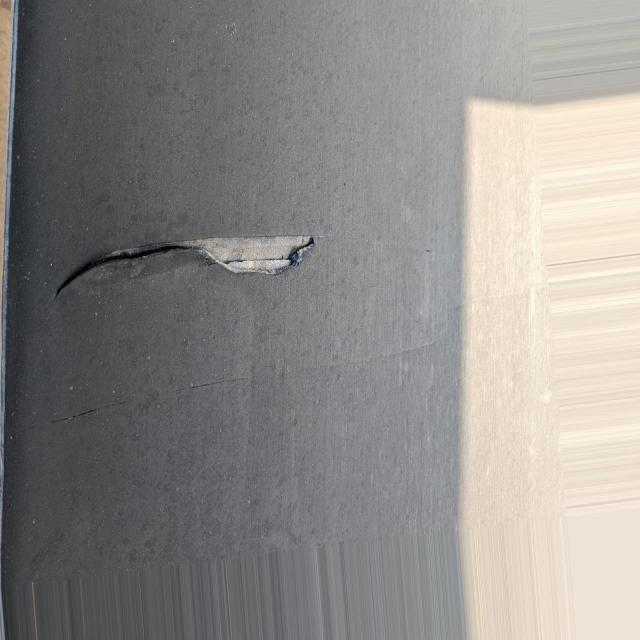Tear: (54, 233, 314, 296)
